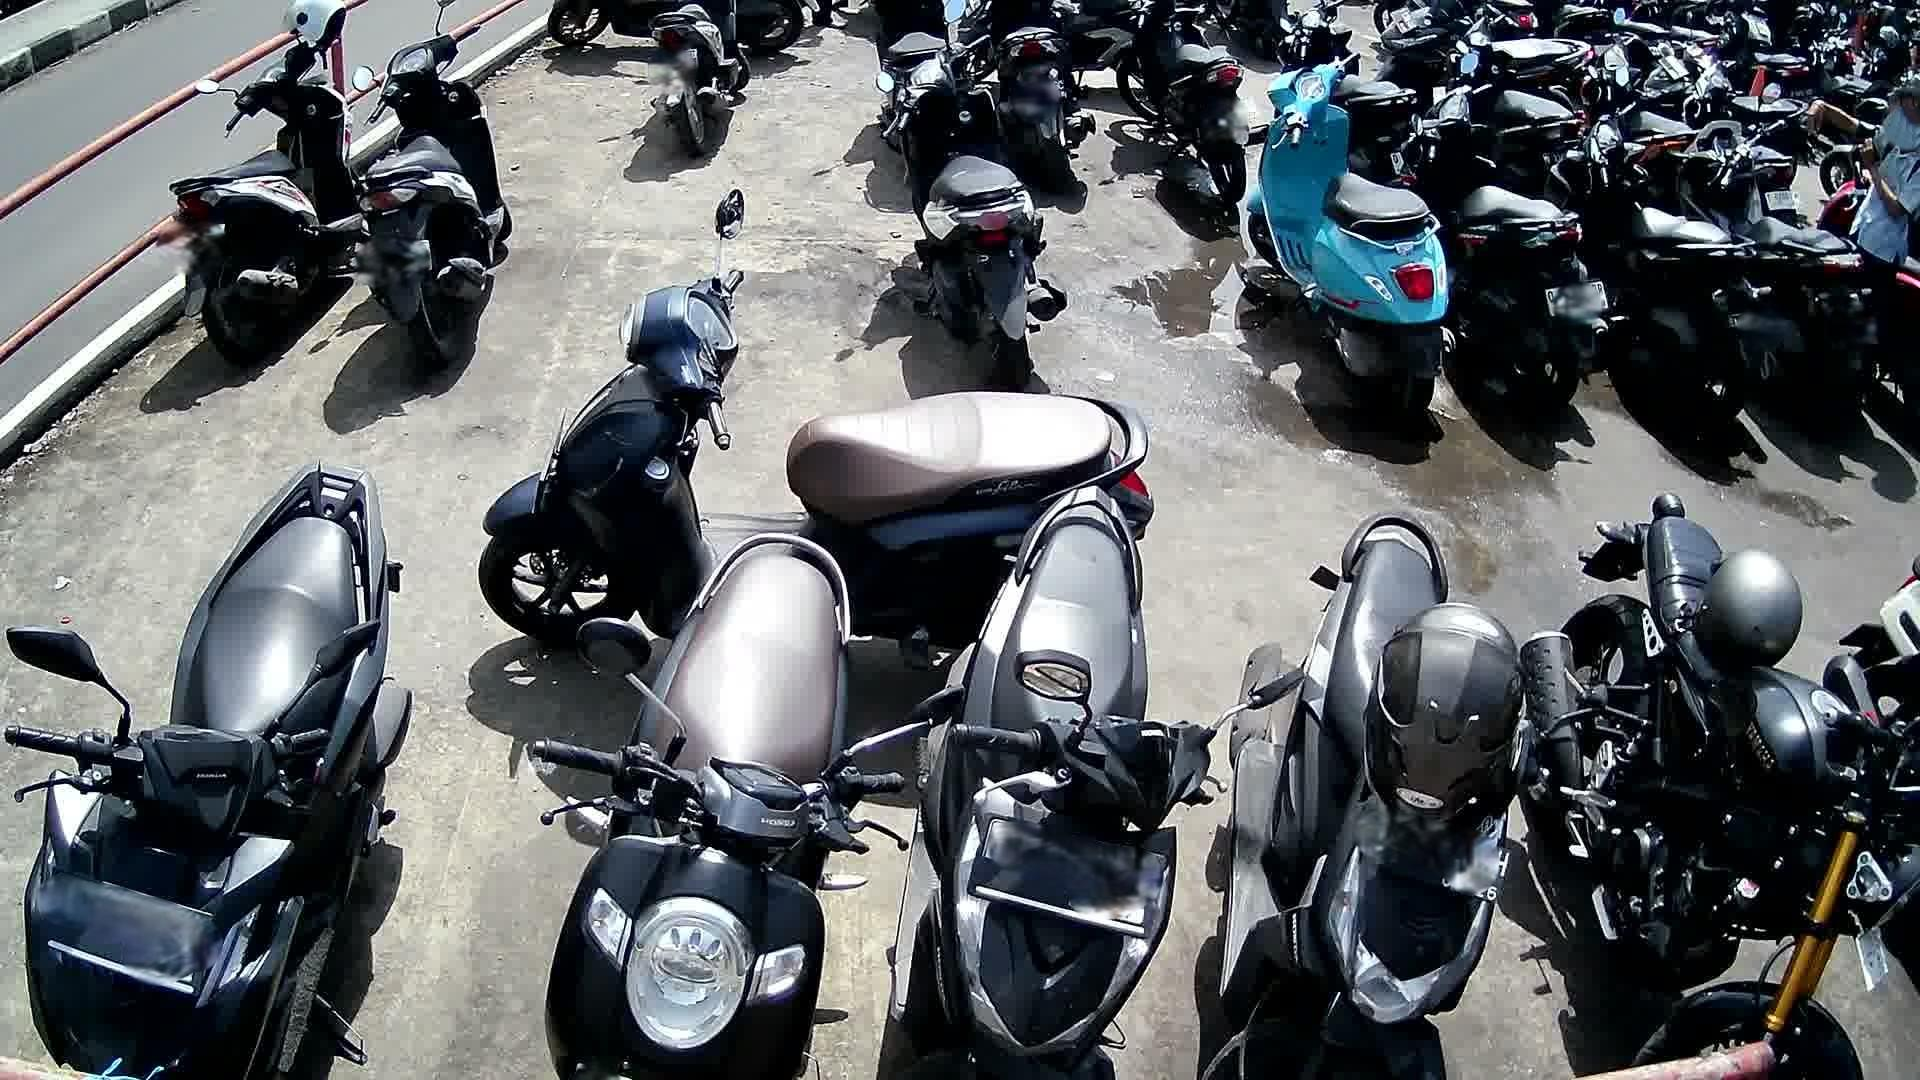motorcycle: (479, 189, 1154, 645), (4, 462, 417, 1080), (1523, 491, 1920, 1080), (527, 530, 914, 1080), (884, 487, 1233, 1080), (1205, 508, 1547, 1080), (1245, 51, 1456, 418), (1540, 102, 1782, 422), (1402, 84, 1619, 417), (1668, 115, 1892, 431), (874, 34, 1071, 389), (166, 40, 359, 361), (351, 21, 512, 369)
